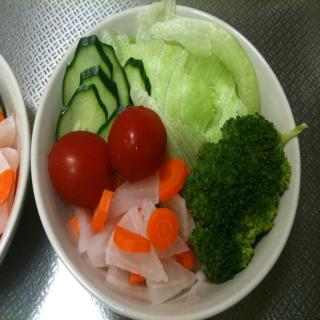tomato: (47, 130, 113, 208), (106, 104, 167, 182)
